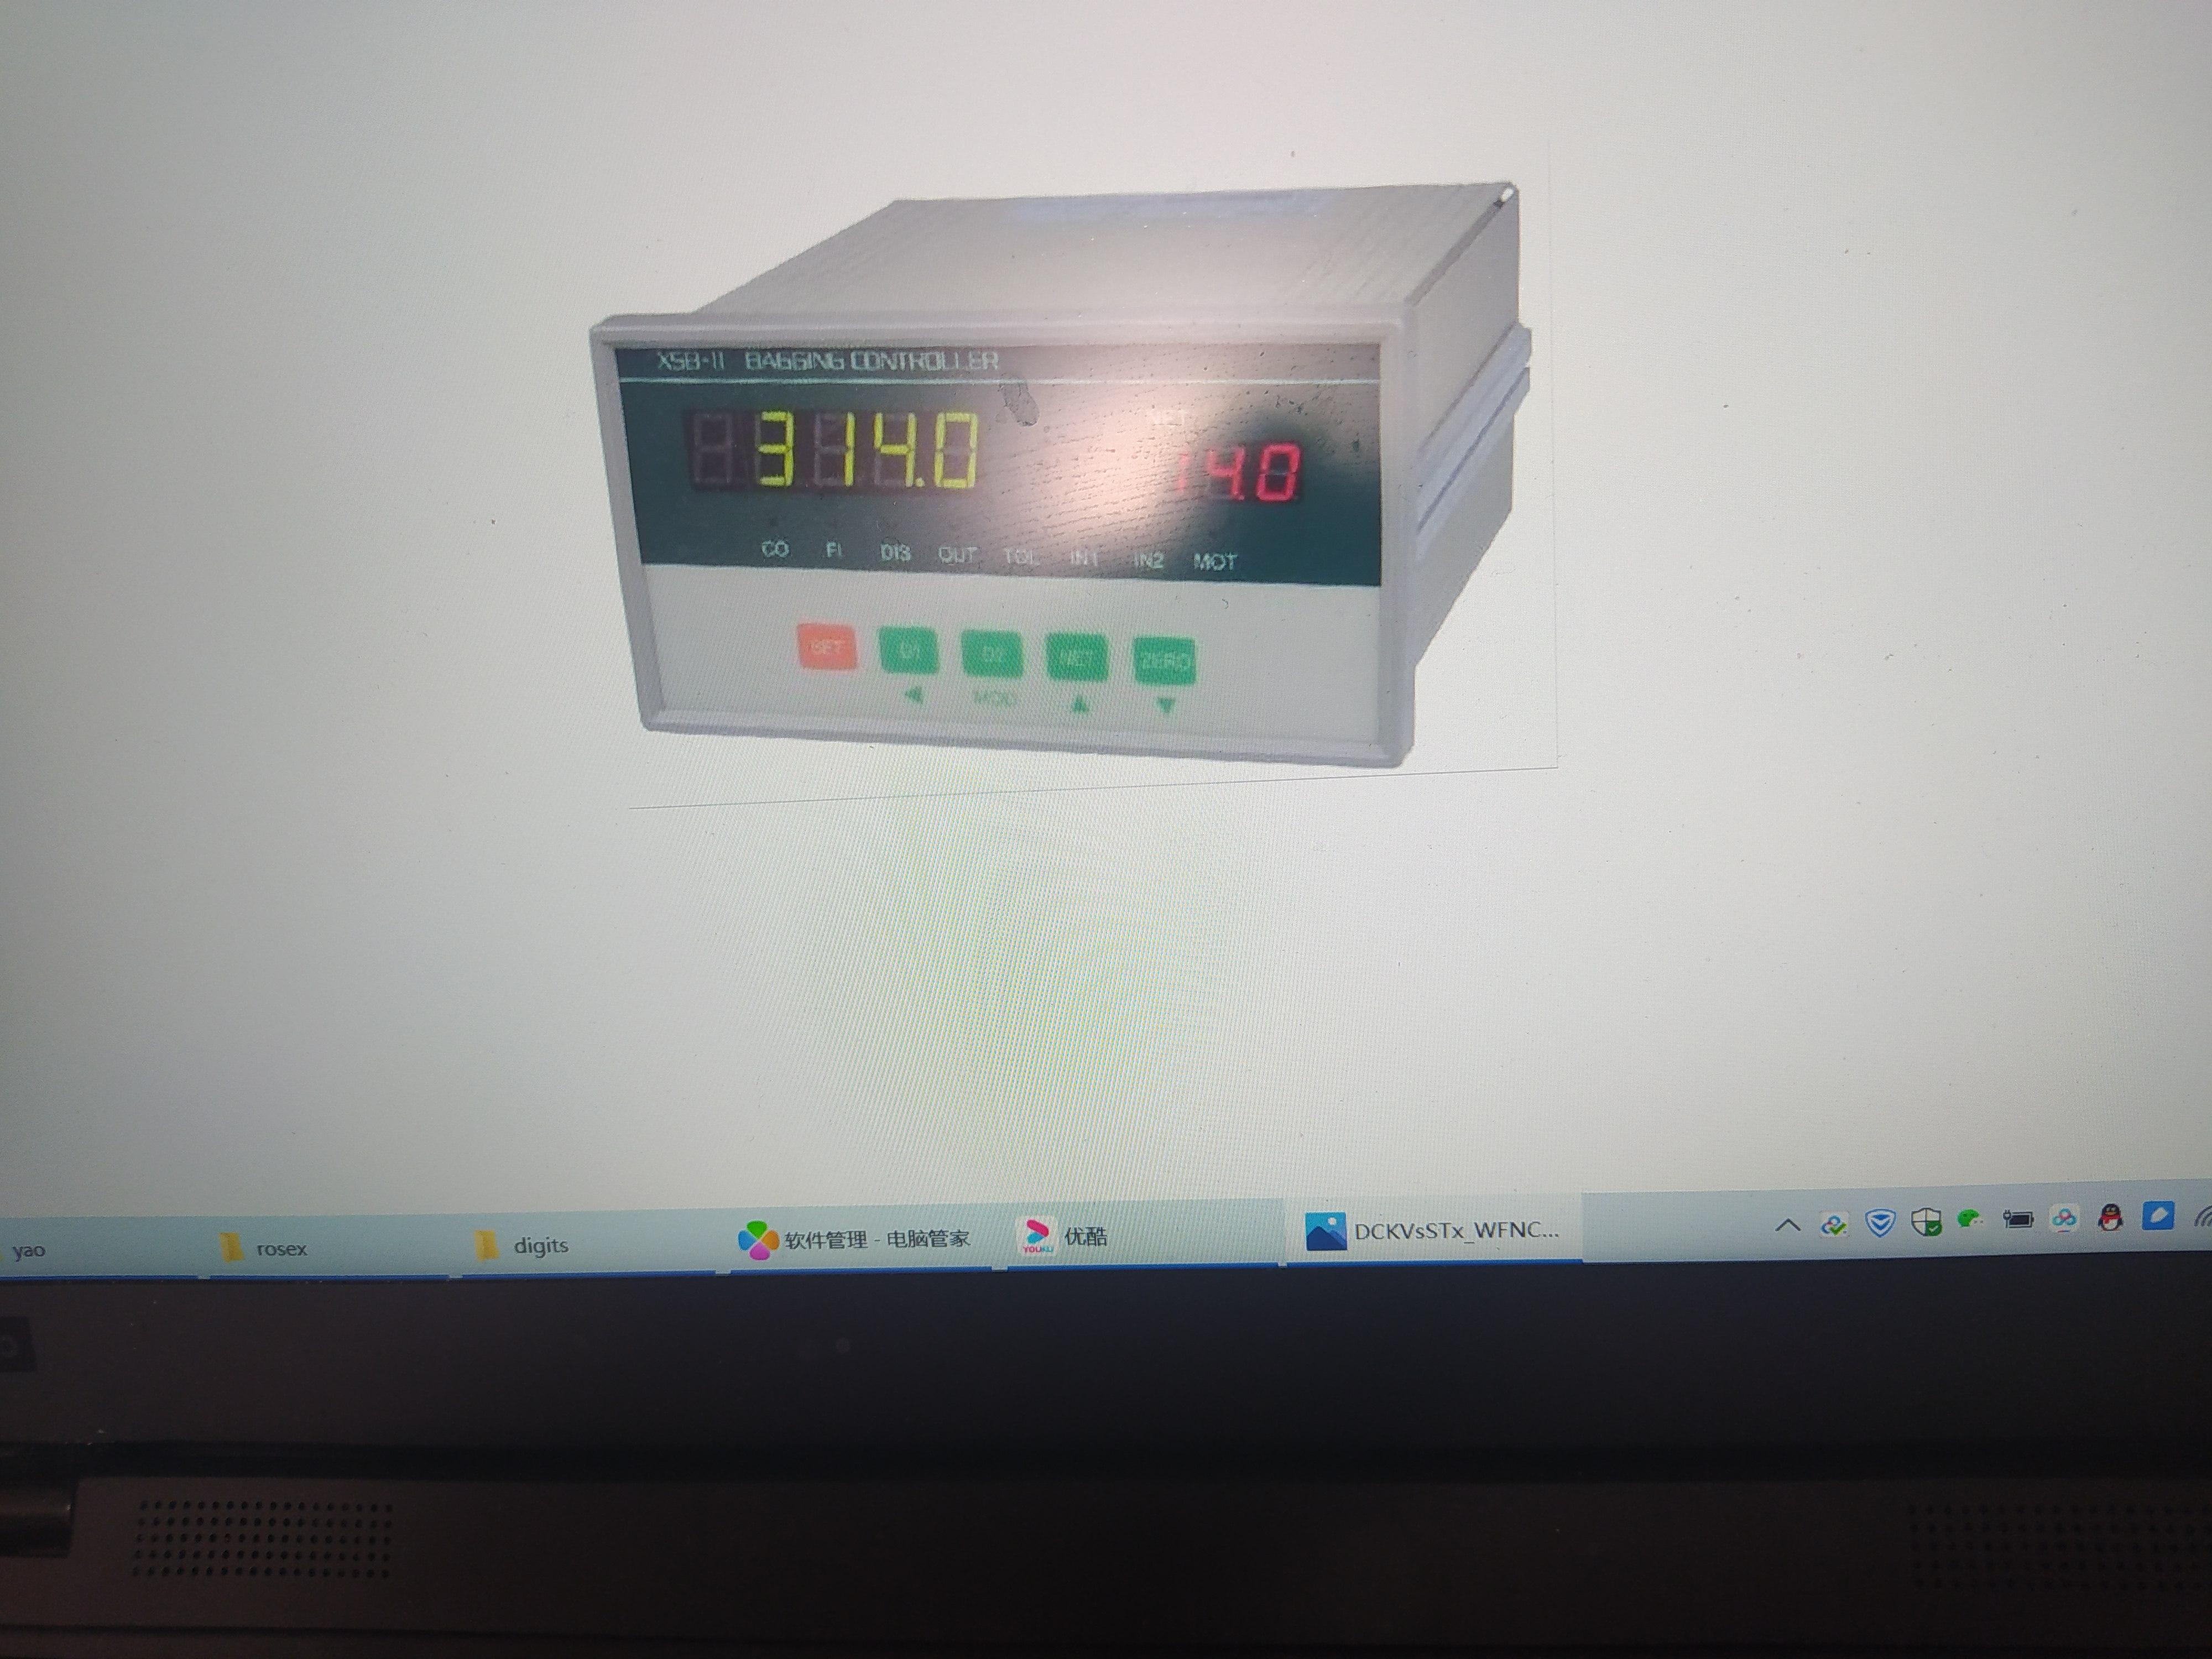.: (916, 413, 925, 488), (1240, 444, 1245, 500)
0: (935, 411, 977, 490), (1256, 443, 1301, 502)
1: (845, 413, 853, 488), (1176, 448, 1188, 497)
2: (1153, 551, 1165, 570)
3: (759, 410, 792, 486)
4: (874, 413, 916, 488), (1207, 444, 1245, 498)
